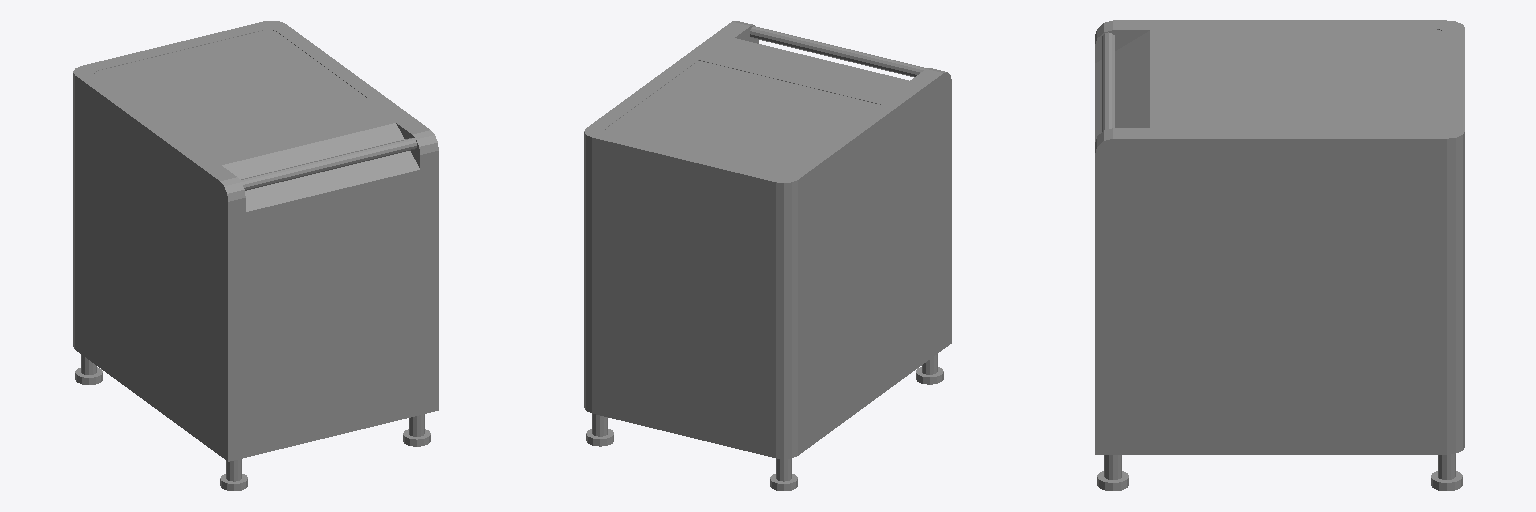
The robot description file, URDF, robot "CAR":
<?xml version="1.0" encoding="utf-8"?>
<!-- This URDF was automatically created by SolidWorks to URDF Exporter! Originally created by [author] ([email redacted]) 
     Commit Version: 1.5.1-0-g916b5db  Build Version: 1.5.7152.31018
     For more information, please see http://wiki.ros.org/sw_urdf_exporter -->
<robot
  name="CAR">
  <link
    name="CAR">
    <inertial>
      <origin
        xyz="9.3573E-06 0.00143080000000002 0.37284"
        rpy="0 0 0" />
      <mass
        value="360.66" />
      <inertia
        ixx="35.958"
        ixy="0.0012031"
        ixz="-0.0011792"
        iyy="27.864"
        iyz="0.25024"
        izz="30.027" />
    </inertial>
    <visual>
      <origin
        xyz="0 0 0"
        rpy="1.5707963267949 0 0" />
      <geometry>
        <mesh
          filename="package://CAR/meshes/CAR.STL" />
      </geometry>
      <material
        name="">
        <color
          rgba="0.62745 0.62745 0.62745 1" />
        <!--
        <texture
          filename="package://CAR/textures/" />
        -->
      </material>
    </visual>
    <collision>
      <origin
        xyz="0 0 0"
        rpy="1.5707963267949 0 0" />
      <geometry>
        <mesh
          filename="package://CAR/meshes/CAR.STL" />
      </geometry>
    </collision>
  </link>
  <!--
  <link name="dummy">
    </link>
    <joint name="dummy_joint" type="fixed">
      <parent link="dummy"/>
      <child link="CAR"/>
    </joint>
  -->
</robot>

--- Facts derived from the render (not from the file) ---
3 views of the same robot in one strip: view 1: azimuth 30°, elevation 25°; view 2: azimuth 150°, elevation 25°; view 3: azimuth 270°, elevation 25° (orthographic).
Robot: CAR — 1 links, 0 joints (none); root link CAR; default pose: all joints at 0.
Links seen in each view (by area): view 1: CAR; view 2: CAR; view 3: CAR.
Link boxes in pixels (<box>): CAR: <box>73,21,438,490</box>; CAR: <box>584,21,951,490</box>; CAR: <box>1095,20,1464,490</box>.
Size in the robot's own frame: 0.6036 by 0.7996 by 0.8418 metres.
Meshes: 1 distinct files referenced, 1 mesh visuals loaded (1 binary STL).
